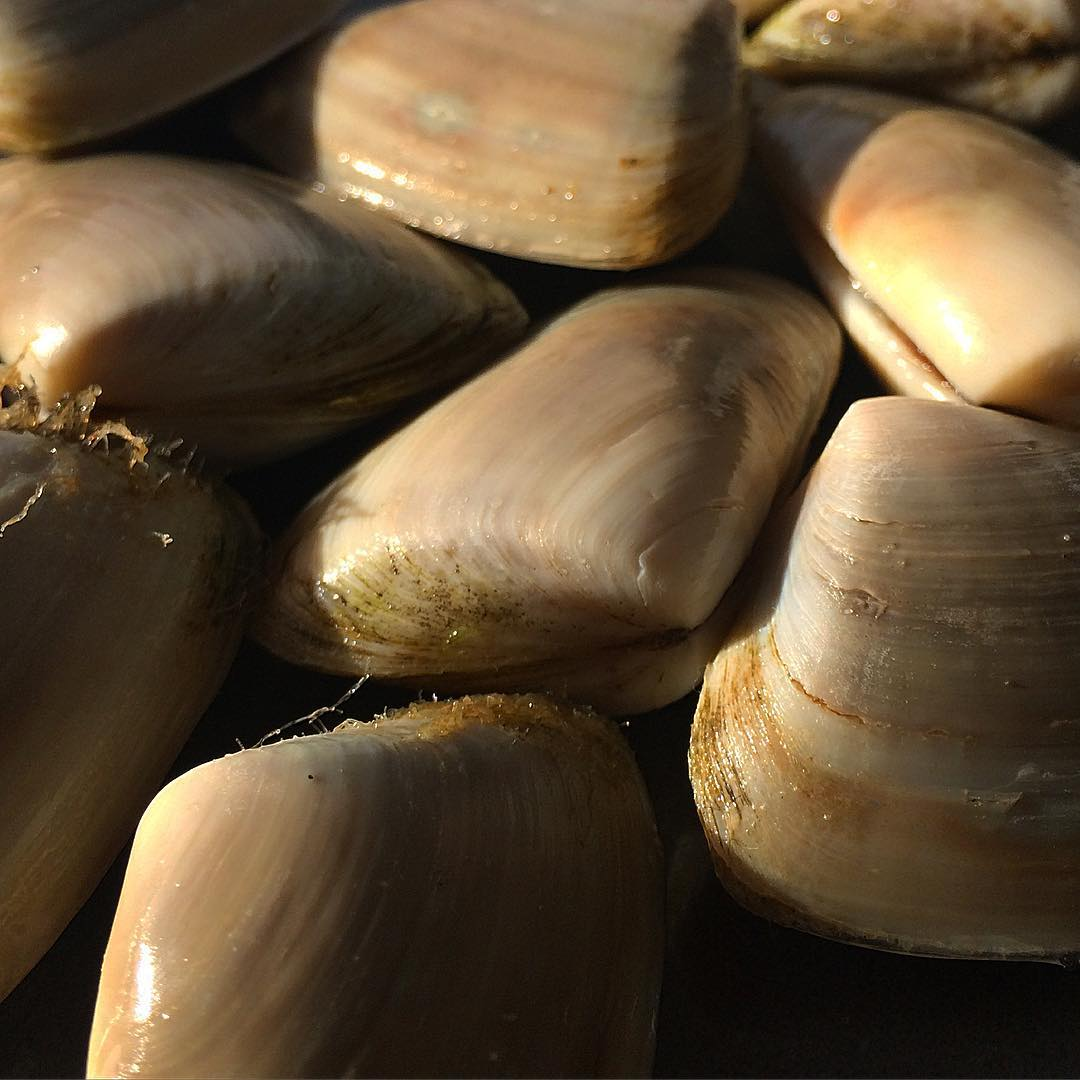tuatua: (240, 257, 840, 668), (691, 375, 1080, 963), (94, 687, 658, 1080), (1, 139, 545, 461), (743, 57, 1080, 415)
